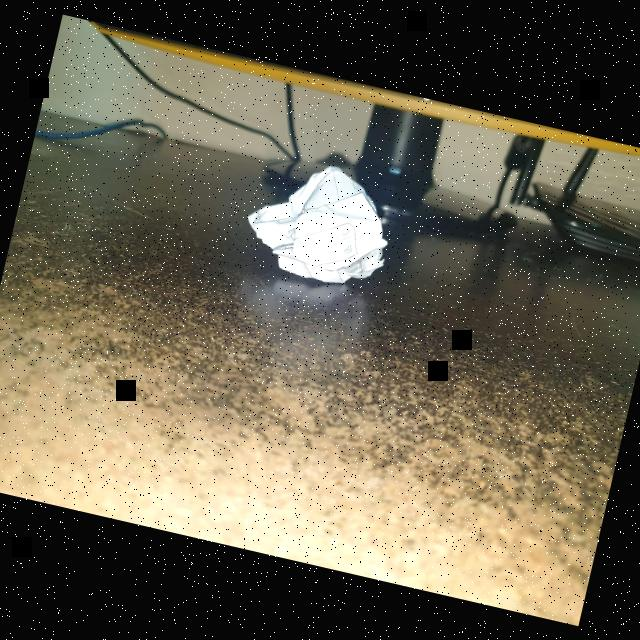scrap_paper: (236, 148, 402, 300)
